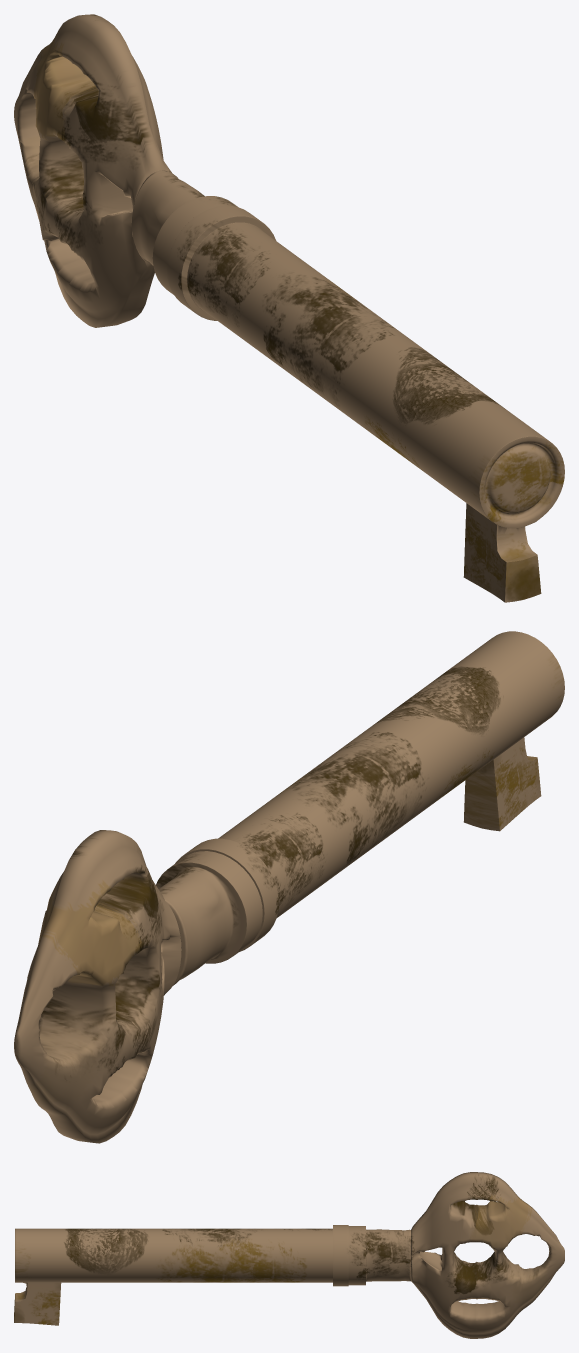
The model's file is GrandmaKey_MESH.fbx.
3 views of the same model, one above another, from view 1: azimuth 30°, elevation 25°; view 2: azimuth 150°, elevation 25°; view 3: azimuth 270°, elevation 25° (orthographic). The views are drawn at different scales.
Parts seen in each view (by area): view 1: GrandmaKey1; view 2: GrandmaKey1; view 3: GrandmaKey1.
Boxes of the visible parts, x1,y1,x2,y2 form: GrandmaKey1: (14, 14, 564, 602); GrandmaKey1: (14, 631, 564, 1143); GrandmaKey1: (14, 1172, 564, 1338).
Bounding box in the file's own units: 0.0873 × 0.2535 × 0.7808.
